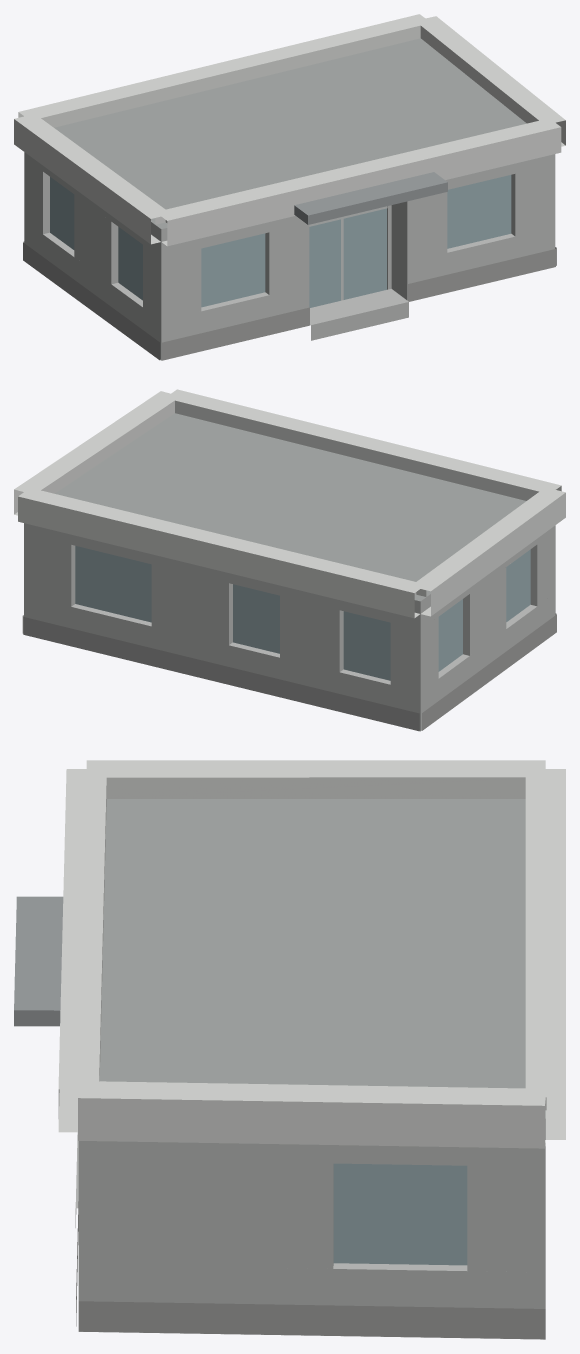
The picture shows the model from 3 angles, top to bottom: view 1: azimuth 30°, elevation 25°; view 2: azimuth 150°, elevation 25°; view 3: azimuth 270°, elevation 25°; orthographic projection. The views are drawn at different scales.
Visible parts, largest first — view 1: b1293436254__roof, b1293436254__trim, b1293436254__wall, b1293436254__glass, b1293436254__base, b1293436254__canopy, b1293436254__entranceThreshold_0, b1293436254__frame; view 2: b1293436254__roof, b1293436254__wall, b1293436254__trim, b1293436254__glass, b1293436254__base; view 3: b1293436254__roof, b1293436254__trim, b1293436254__wall, b1293436254__base, b1293436254__glass, b1293436254__canopy.
Boxes of the visible parts, <box> form: b1293436254__roof: <box>54,38,526,360</box>; b1293436254__trim: <box>14,14,565,246</box>; b1293436254__wall: <box>24,152,555,359</box>; b1293436254__glass: <box>50,175,511,307</box>; b1293436254__base: <box>23,241,556,360</box>; b1293436254__canopy: <box>294,172,447,224</box>; b1293436254__entranceThreshold_0: <box>310,288,408,340</box>; b1293436254__frame: <box>309,206,387,300</box>; b1293436254__roof: <box>55,413,526,731</box>; b1293436254__wall: <box>24,523,555,730</box>; b1293436254__trim: <box>14,389,565,618</box>; b1293436254__glass: <box>75,546,530,680</box>; b1293436254__base: <box>22,613,556,731</box>; b1293436254__roof: <box>79,799,545,1339</box>; b1293436254__trim: <box>58,760,565,1148</box>; b1293436254__wall: <box>78,1118,545,1308</box>; b1293436254__base: <box>76,1201,545,1339</box>; b1293436254__glass: <box>333,1163,467,1265</box>; b1293436254__canopy: <box>14,896,63,1026</box>.
Size of the model in its own units: 12.14 by 4.35 by 8.2.
